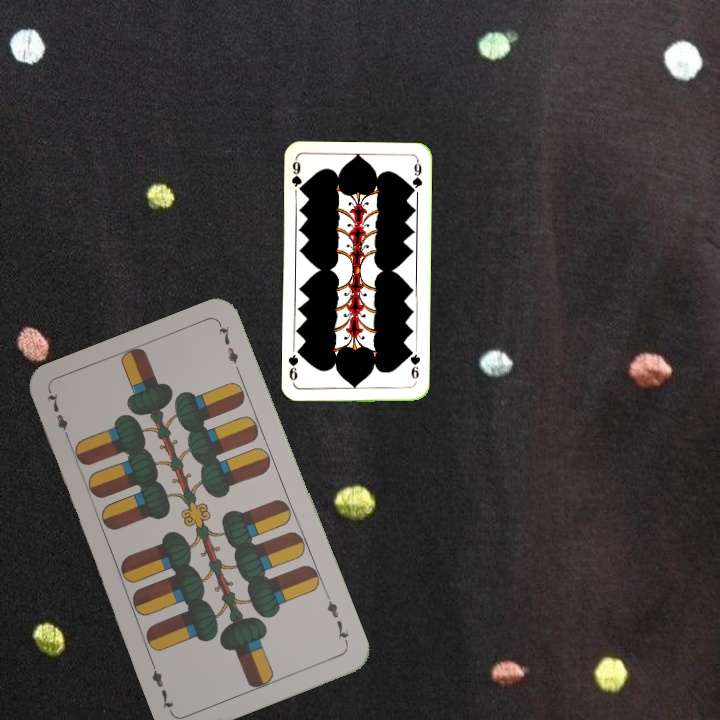E7: (43, 388, 74, 445), (323, 592, 352, 647)
G9: (287, 156, 306, 196), (406, 346, 423, 386)
